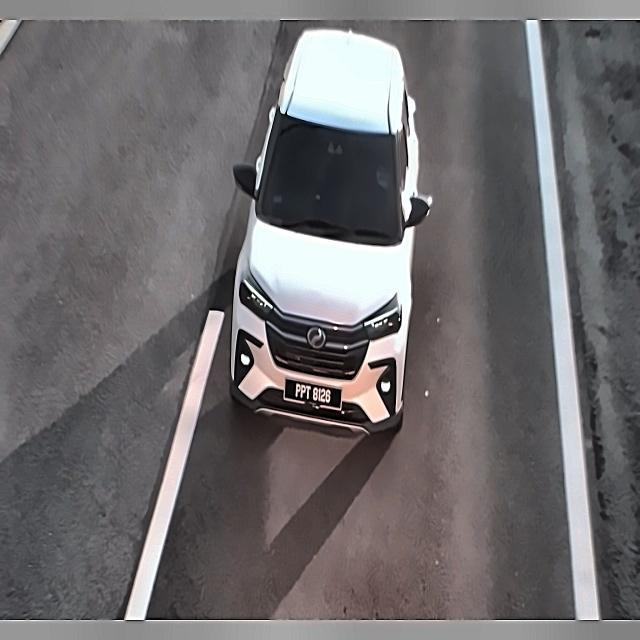car: (274, 369, 347, 421)
